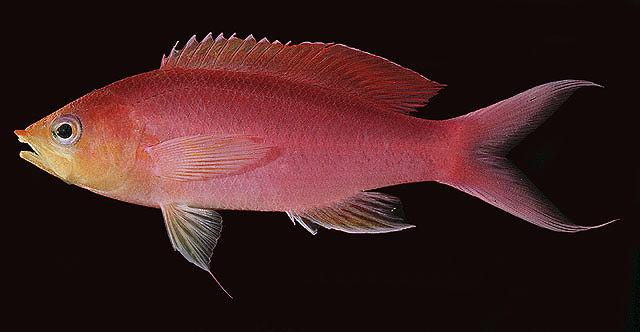fish: (13, 31, 621, 299)
